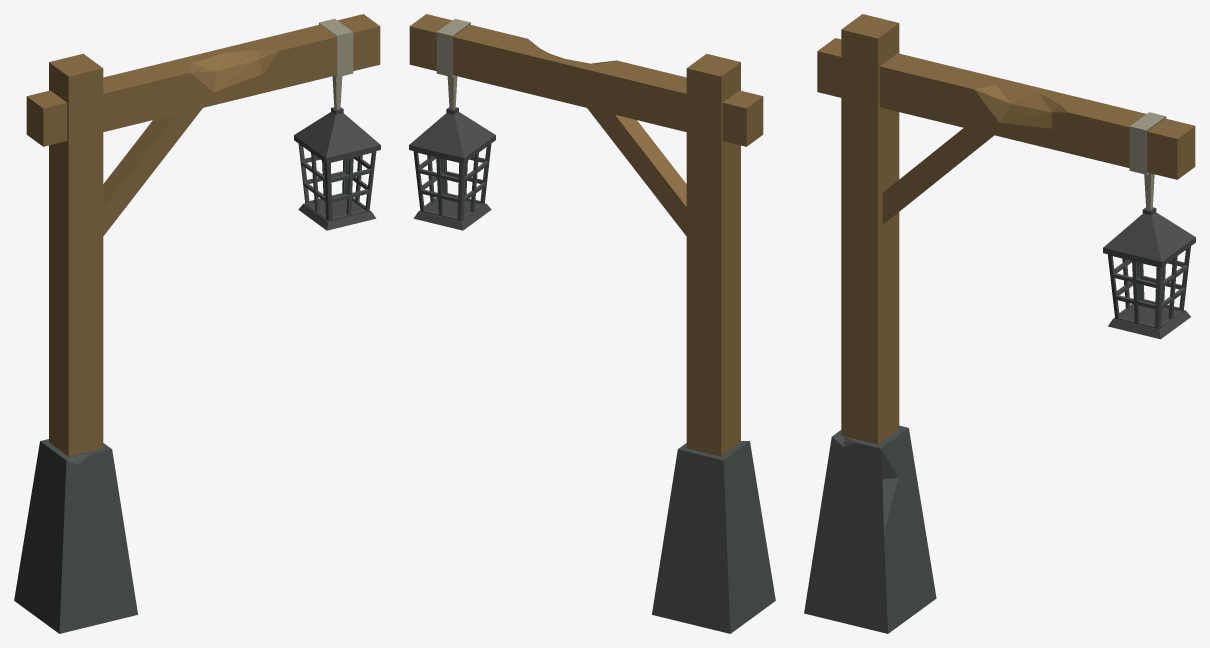
Rendered from Lamp2_Destroy.fbx.
3 renders of one model, left to right at view 1: azimuth 30°, elevation 25°; view 2: azimuth 150°, elevation 25°; view 3: azimuth 330°, elevation 25°, orthographic. The views are drawn at different scales.
Visible parts, largest first — view 1: Cube; view 2: Cube; view 3: Cube.
Boxes of the visible parts, x1,y1,x2,y2 form: Cube: (14,14,380,633); Cube: (409,14,775,633); Cube: (804,14,1195,633).
Size of the model in its own units: 170 by 262 by 39.78.
